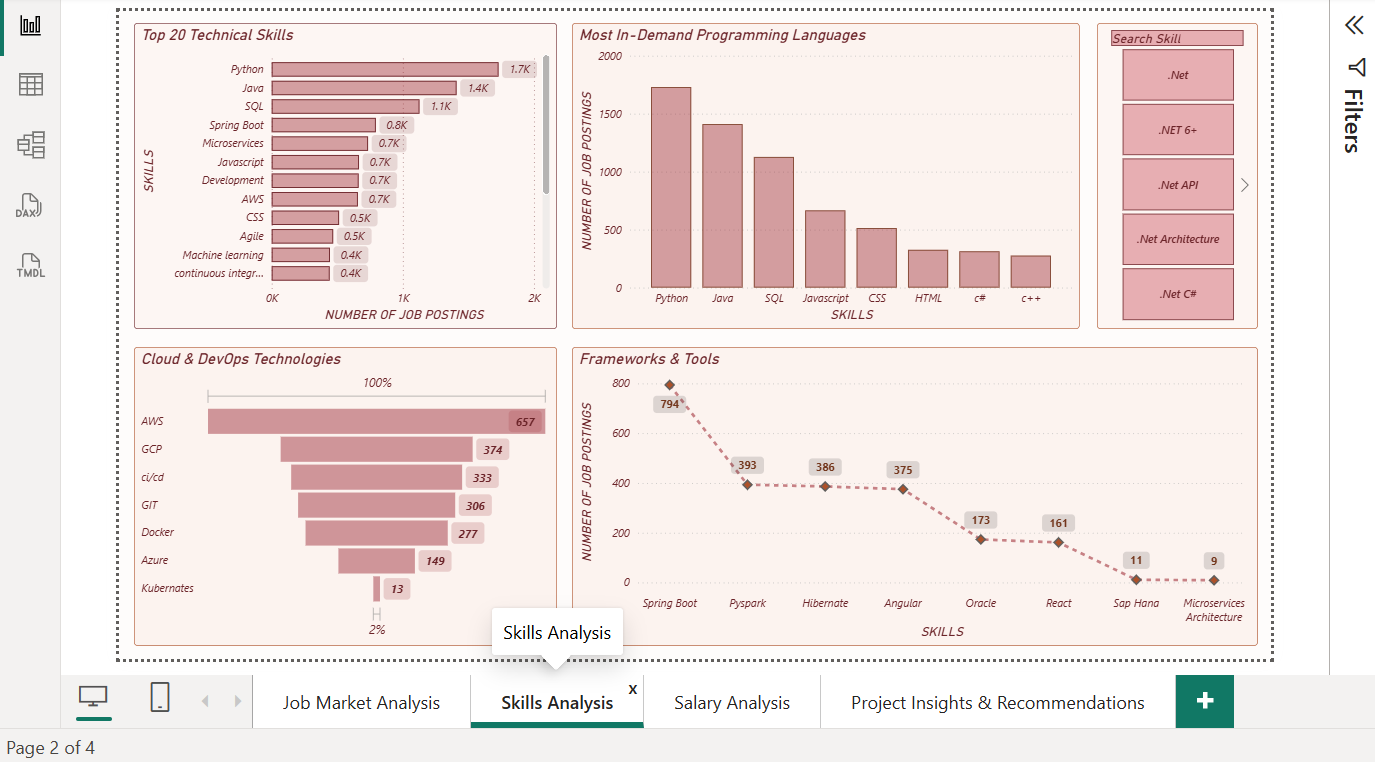

Layout of this report page (visuals, bound fields, positions):
{"tool":"powerbi","page":{"name":"Skills Analysis","canvas":[1280,720],"ordinal":1},"visuals":[{"type":"clusteredBarChart","title":"Top 20 Technical Skills","fields":{"Category":["Top Skills.tagsAndSkills"],"Y":["Sum(Top Skills.count)"]},"box":[16,14,470,340],"z":0},{"type":"lineStackedColumnComboChart","title":"Most In-Demand Programming Languages","fields":{"Category":["Top Skills.tagsAndSkills"],"Y":["Sum(Top Skills.count)"]},"box":[504,14,564,340],"z":1000},{"type":"funnel","title":"Cloud & DevOps Technologies","fields":{"Category":["Top Skills.tagsAndSkills"],"Y":["Sum(Top Skills.count)"]},"box":[16,374,470,332],"z":2000},{"type":"lineChart","title":"Frameworks & Tools","fields":{"Category":["Top Skills.tagsAndSkills"],"Y":["Sum(Top Skills.count)"]},"box":[504,374,762,332],"z":3000},{"type":"slicer","fields":{"Values":["Top Skills.tagsAndSkills"]},"box":[1086.7,13.3,178.3,340],"z":4000}]}

Visuals, with their boxes on the page's 1280x720 design canvas (x1, y1, x2, y2). These are canvas units, not pixel positions in the 1375x762 screenshot, which may show the page scaled, cropped or inside an application window:
"Top 20 Technical Skills" clusteredBarChart: locate(16, 14, 486, 354)
"Most In-Demand Programming Languages" lineStackedColumnComboChart: locate(504, 14, 1068, 354)
"Cloud & DevOps Technologies" funnel: locate(16, 374, 486, 706)
"Frameworks & Tools" lineChart: locate(504, 374, 1266, 706)
slicer - Top Skills.tagsAndSkills: locate(1087, 13, 1265, 353)
